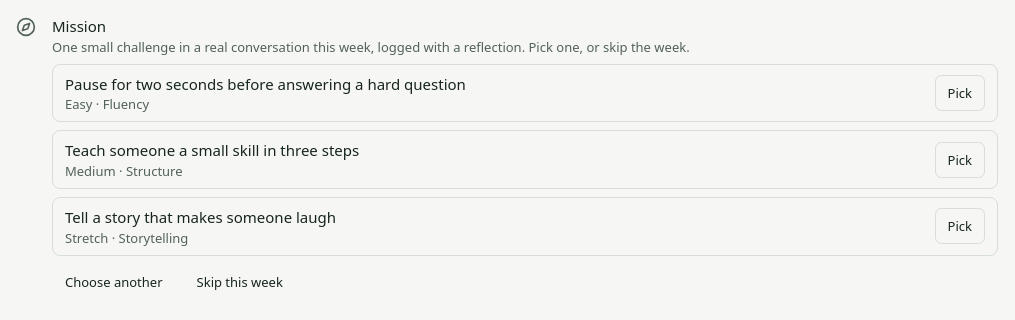
Test: this week's mission (14.1) › offers one mission of each difficulty, another three on request, and a skip
Click the button "Choose another" at (114, 282), box [52,264,176,300]
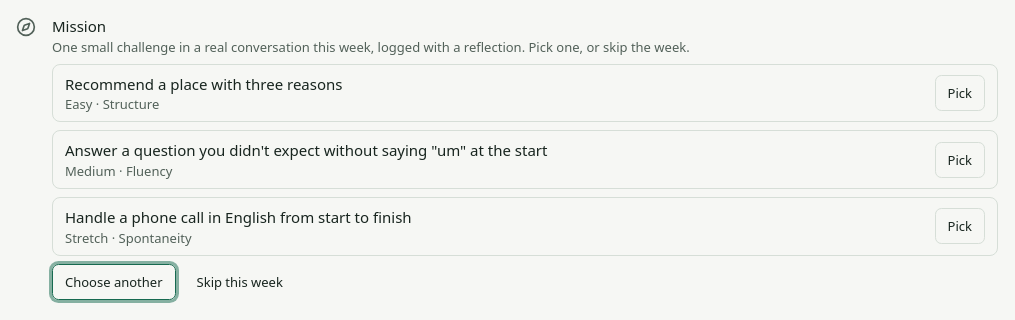
Click the button "Skip this week" at (240, 282), box [184,264,296,300]
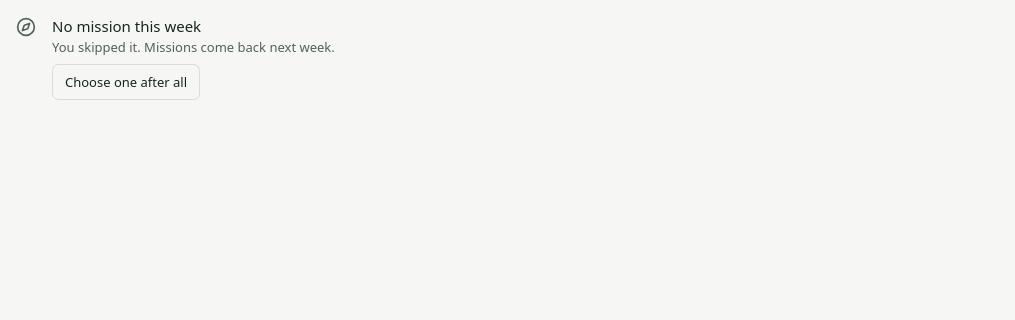
Result: the text "No mission this week" is shown at [52,16,201,36]
Click the button "Choose one after all" at (126, 82), box [52,64,200,100]
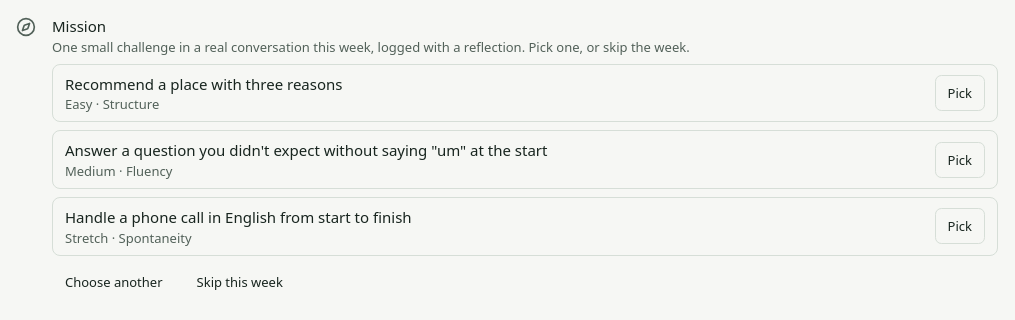
Result: the list named "Missions to choose from" is shown at [52,64,998,256]
